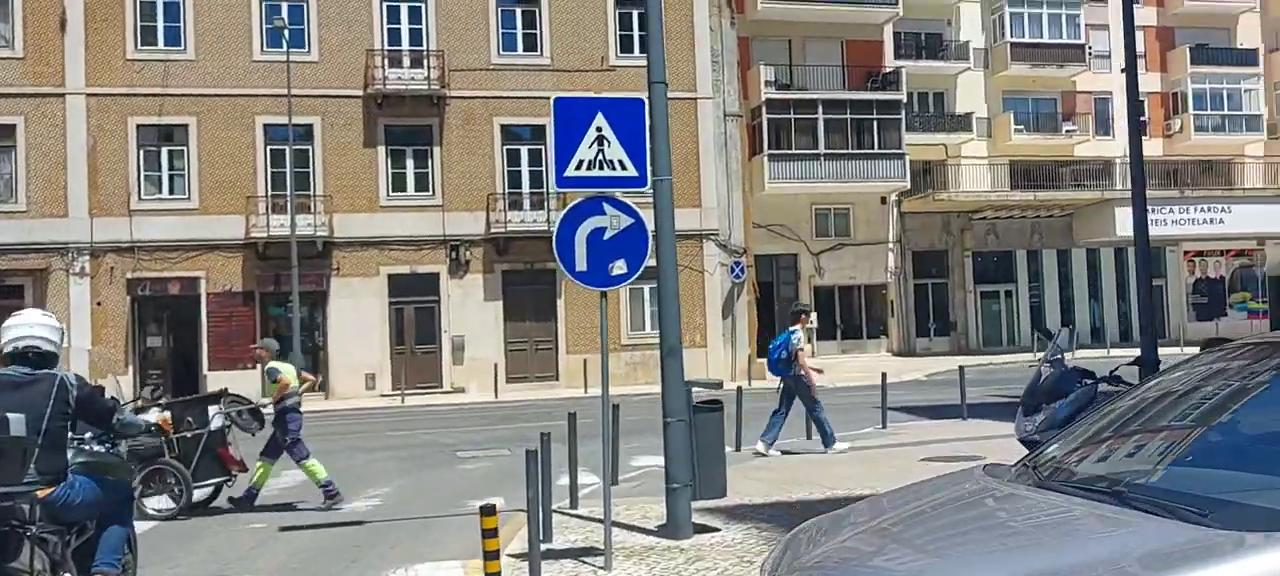passagem para peoes: (551, 94, 649, 192)
sentido obrigatorio: (551, 189, 657, 295)
